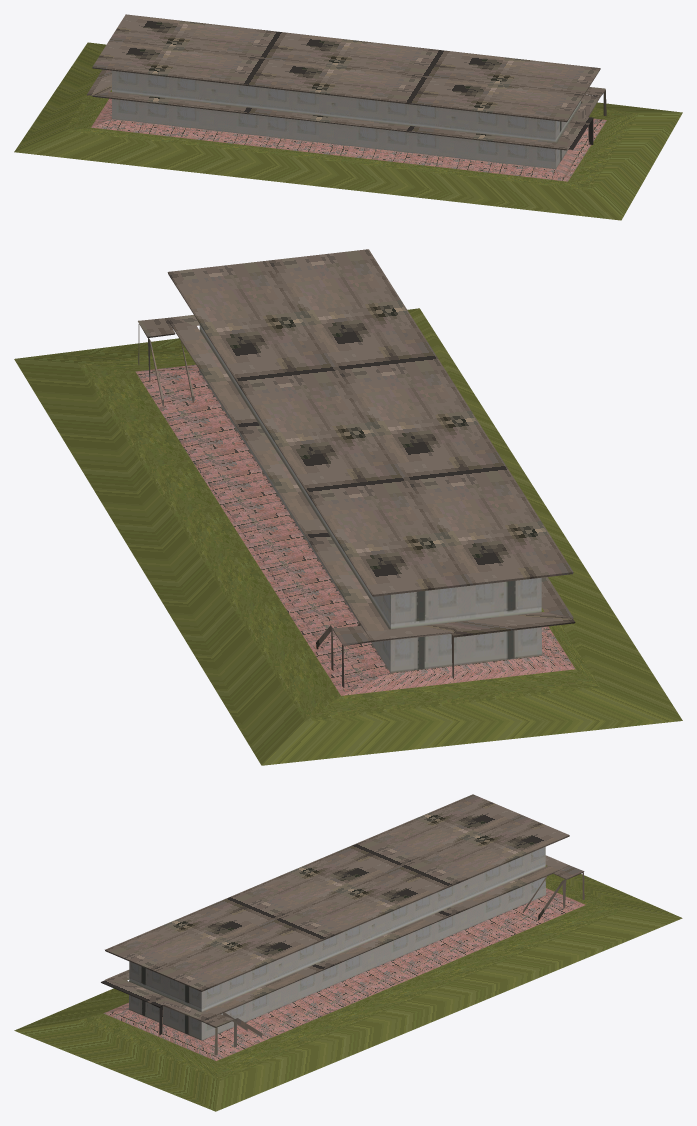
Rendered from lodaprtmntsvgn07.obj.
3 renders of one model, top to bottom at view 1: azimuth 30°, elevation 25°; view 2: azimuth 150°, elevation 25°; view 3: azimuth 270°, elevation 25°, orthographic. The views are drawn at different scales.
Visible parts, largest first — view 1: lodaprtmntsvgN07; view 2: lodaprtmntsvgN07; view 3: lodaprtmntsvgN07.
Part boxes in pixels (left/top/right/bottom): lodaprtmntsvgN07: left=14, top=14, right=682, bottom=220; lodaprtmntsvgN07: left=14, top=249, right=682, bottom=765; lodaprtmntsvgN07: left=14, top=794, right=682, bottom=1111.
Bounding box in the file's own units: 58.76 × 7.34 × 59.28.
5 materials, 5 textured.
